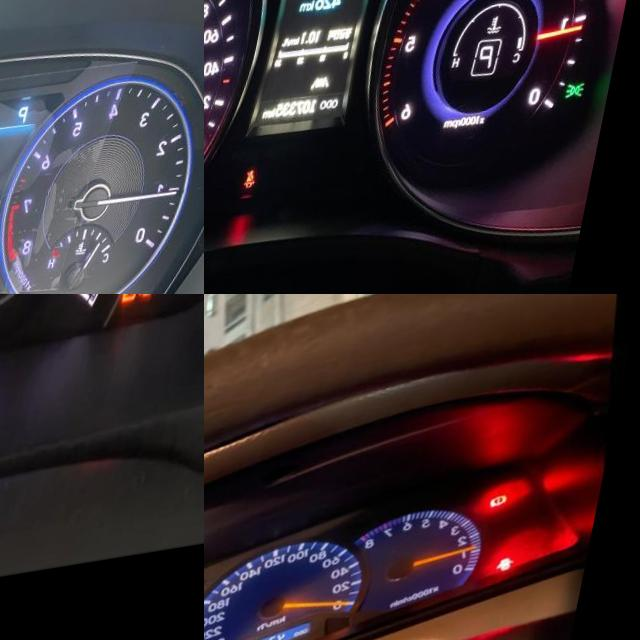SideLamp: (581, 101, 603, 120)
